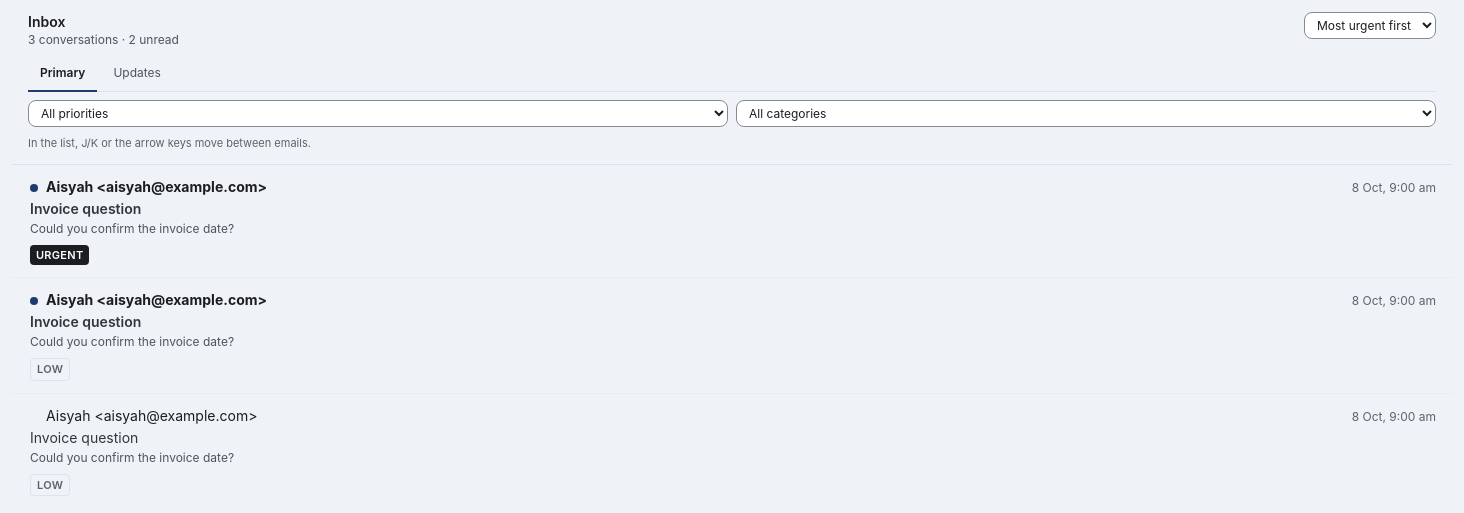
the unread count in the header (#171) › follows the priority filter, like the conversation count
Step 1. Select "Low" in the 2nd dropdown named "Filter by priority" → (378, 114), box left=28, top=100, right=728, bottom=127
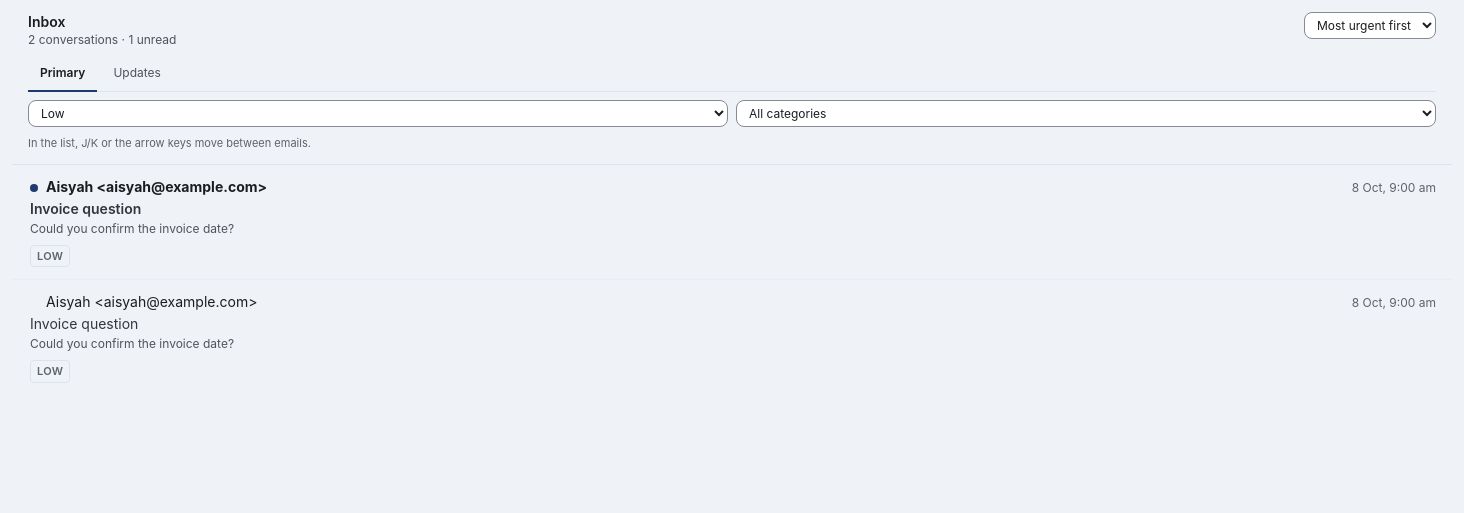
Result: the text "2 conversations · 1 unread" is shown at left=28, top=32, right=176, bottom=48
